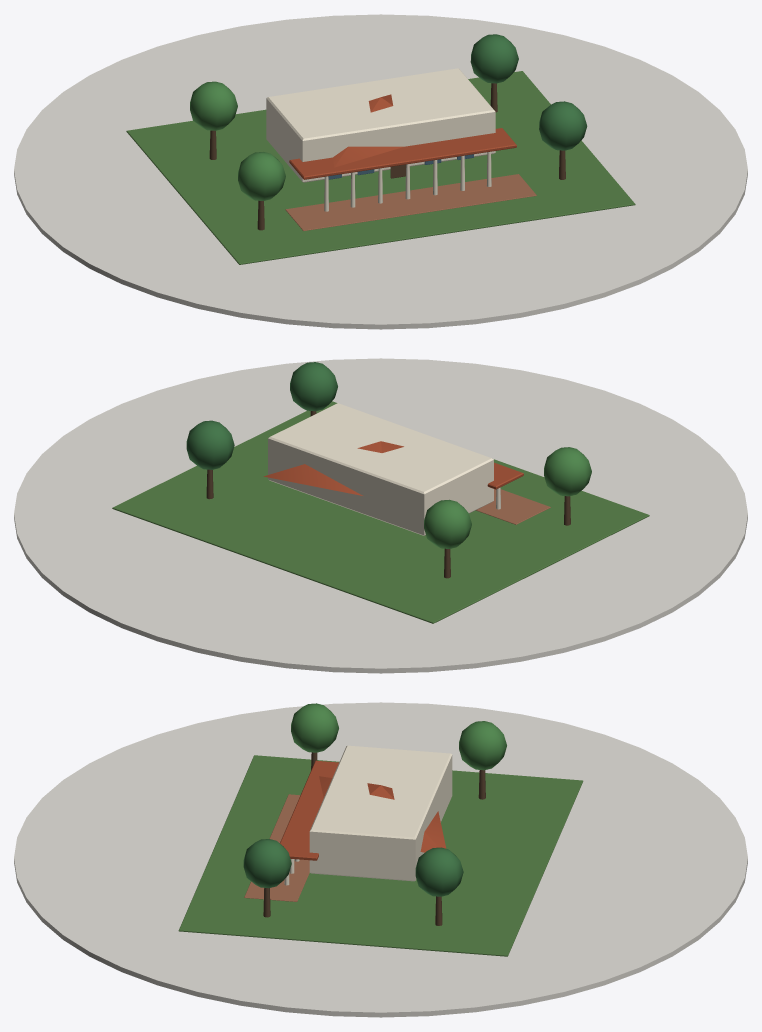
File: casa-de-jose-de-alencar.glb
3 views of the same model, one above another, from view 1: azimuth 30°, elevation 25°; view 2: azimuth 150°, elevation 25°; view 3: azimuth 270°, elevation 25° (orthographic).
Visible parts, largest first — view 1: Base_Pedestal, Sitio_Base, Casa_Corpo, Calcada_Tijolos, Alpendre_Cobertura, Arvore_Copa_3, Arvore_Copa_1, Arvore_Copa_0, Arvore_Copa_2, Casa_Telhado; view 2: Base_Pedestal, Sitio_Base, Casa_Corpo, Arvore_Copa_1, Arvore_Copa_2, Arvore_Copa_0, Arvore_Copa_3, Casa_Telhado, Calcada_Tijolos; view 3: Base_Pedestal, Sitio_Base, Casa_Corpo, Alpendre_Cobertura, Arvore_Copa_1, Arvore_Copa_3, Arvore_Copa_2, Arvore_Copa_0, Calcada_Tijolos, Casa_Telhado.
Part boxes in pixels (x1=…): Base_Pedestal: x1=14, y1=14, x2=747, y2=329; Sitio_Base: x1=126, y1=71, x2=635, y2=264; Casa_Corpo: x1=266, y1=68, x2=495, y2=182; Calcada_Tijolos: x1=285, y1=174, x2=536, y2=231; Alpendre_Cobertura: x1=289, y1=128, x2=516, y2=179; Arvore_Copa_3: x1=539, y1=101, x2=587, y2=150; Arvore_Copa_1: x1=470, y1=34, x2=518, y2=83; Arvore_Copa_0: x1=190, y1=81, x2=237, y2=130; Arvore_Copa_2: x1=238, y1=152, x2=285, y2=200; Casa_Telhado: x1=332, y1=94, x2=403, y2=167; Base_Pedestal: x1=14, y1=358, x2=747, y2=673; Sitio_Base: x1=112, y1=401, x2=649, y2=623; Casa_Corpo: x1=268, y1=403, x2=493, y2=535; Arvore_Copa_1: x1=186, y1=420, x2=234, y2=469; Arvore_Copa_2: x1=544, y1=447, x2=591, y2=496; Arvore_Copa_0: x1=424, y1=499, x2=471, y2=548; Arvore_Copa_3: x1=290, y1=362, x2=337, y2=411; Casa_Telhado: x1=263, y1=441, x2=403, y2=495; Calcada_Tijolos: x1=476, y1=489, x2=550, y2=524; Base_Pedestal: x1=14, y1=702, x2=747, y2=1017; Sitio_Base: x1=178, y1=755, x2=583, y2=956; Casa_Corpo: x1=309, y1=745, x2=452, y2=881; Alpendre_Cobertura: x1=280, y1=760, x2=338, y2=860; Arvore_Copa_1: x1=415, y1=847, x2=463, y2=896; Arvore_Copa_3: x1=243, y1=839, x2=291, y2=888; Arvore_Copa_2: x1=291, y1=703, x2=338, y2=752; Arvore_Copa_0: x1=459, y1=721, x2=506, y2=770; Calcada_Tijolos: x1=244, y1=794, x2=309, y2=901; Casa_Telhado: x1=319, y1=776, x2=446, y2=852.
Size of the model in its own units: 68 by 8.4 by 68.
